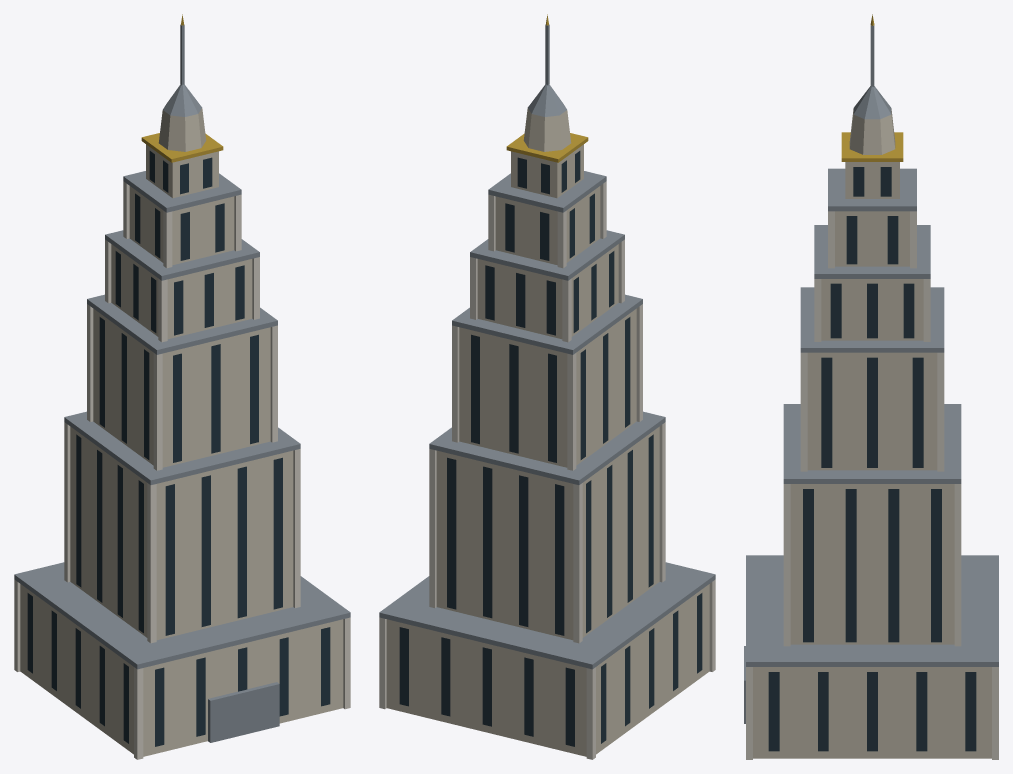
The model's file is gratteciel.glb.
3 views of the same model, side by side, from view 1: azimuth 30°, elevation 25°; view 2: azimuth 150°, elevation 25°; view 3: azimuth 270°, elevation 25° (orthographic). The views are drawn at different scales.
Parts seen in each view (by area): view 1: gratteciel; view 2: gratteciel; view 3: gratteciel.
Part boxes in pixels (x1,y1,x2,y2): gratteciel: (14,14,350,759); gratteciel: (379,14,715,759); gratteciel: (744,14,998,759).
Bounding box in the file's own units: 3.7 × 11.18 × 3.73.
